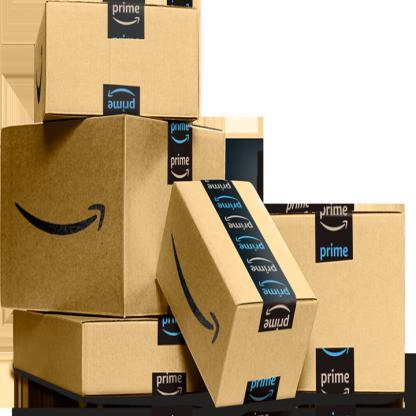package: (3, 121, 223, 315), (154, 177, 322, 413), (267, 208, 405, 400), (31, 4, 198, 126), (14, 312, 207, 394)
